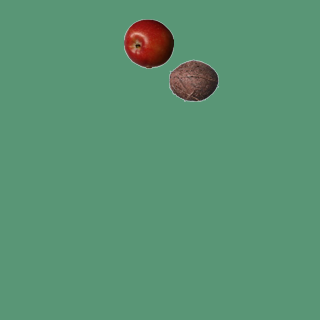Apple Braeburn: (123, 18, 173, 68)
Cocos: (168, 55, 218, 105)
